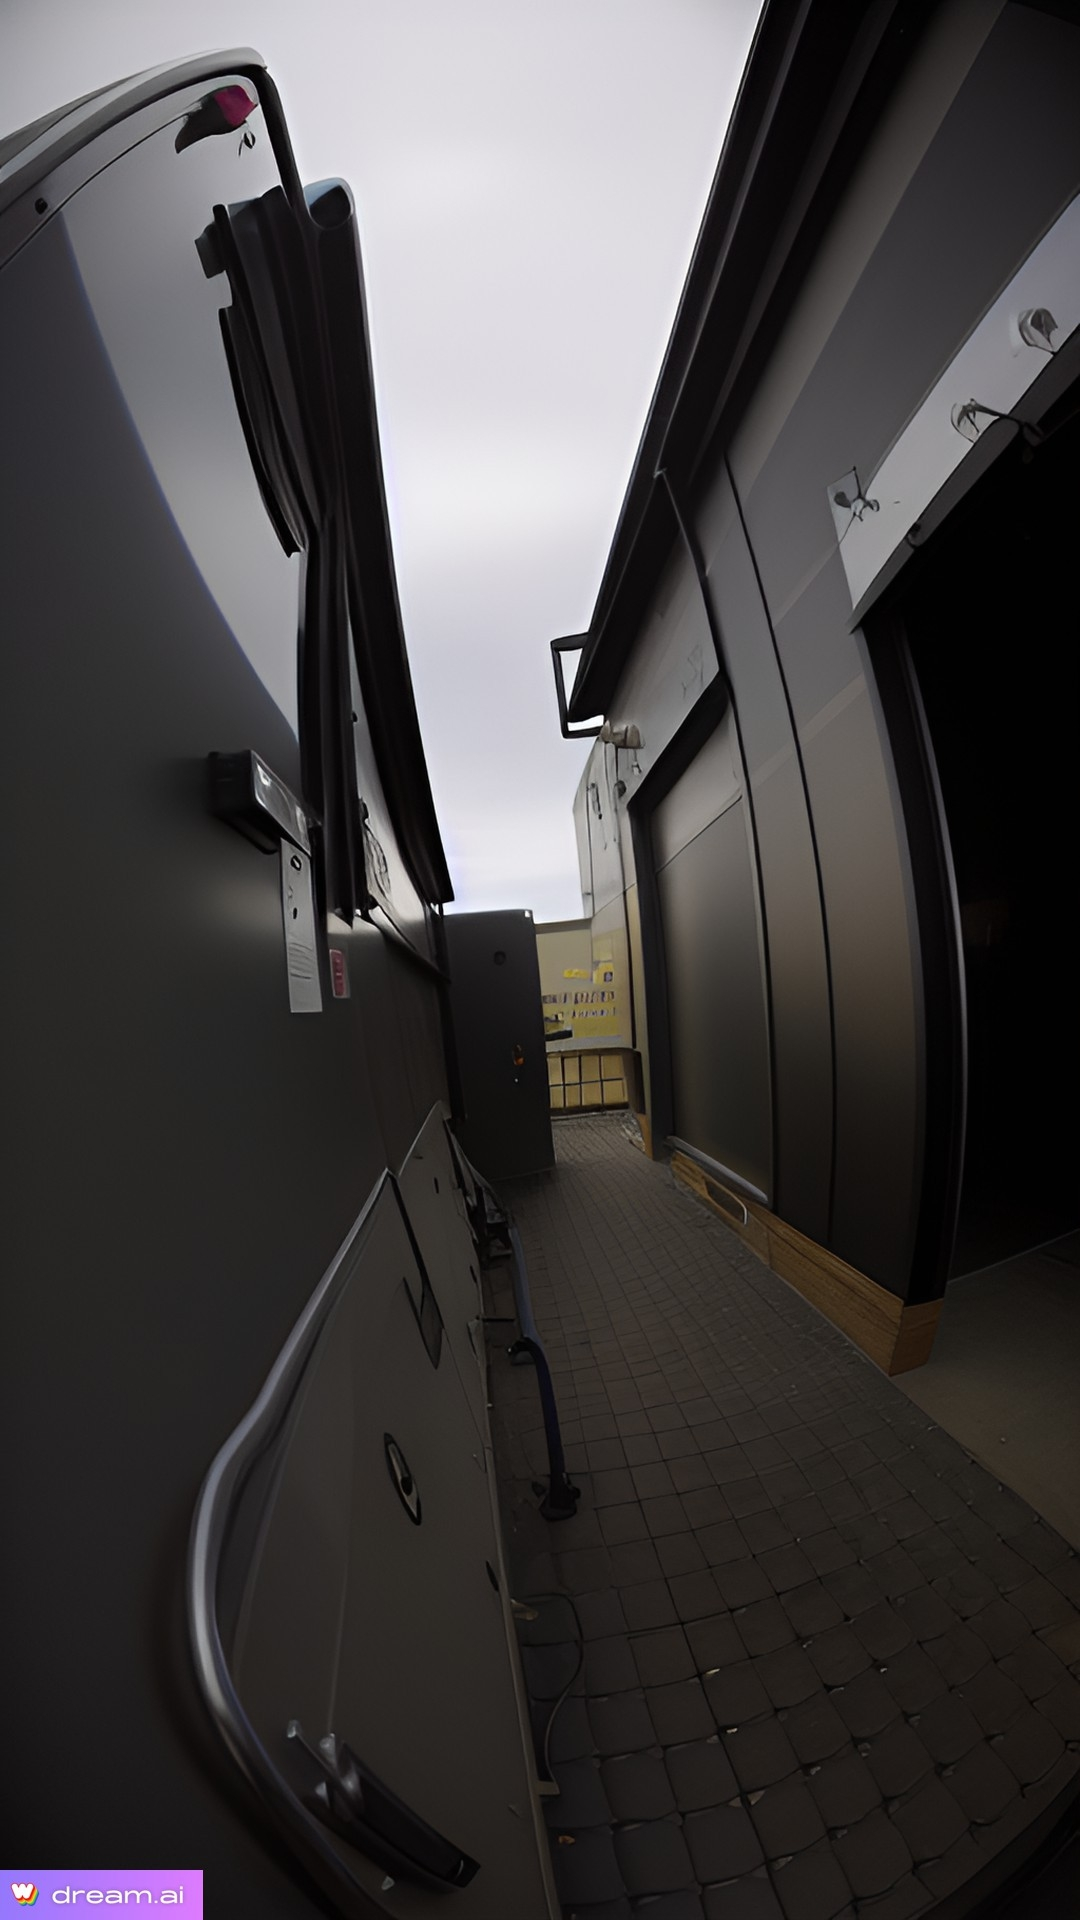door_back: (425, 891, 587, 1200)
